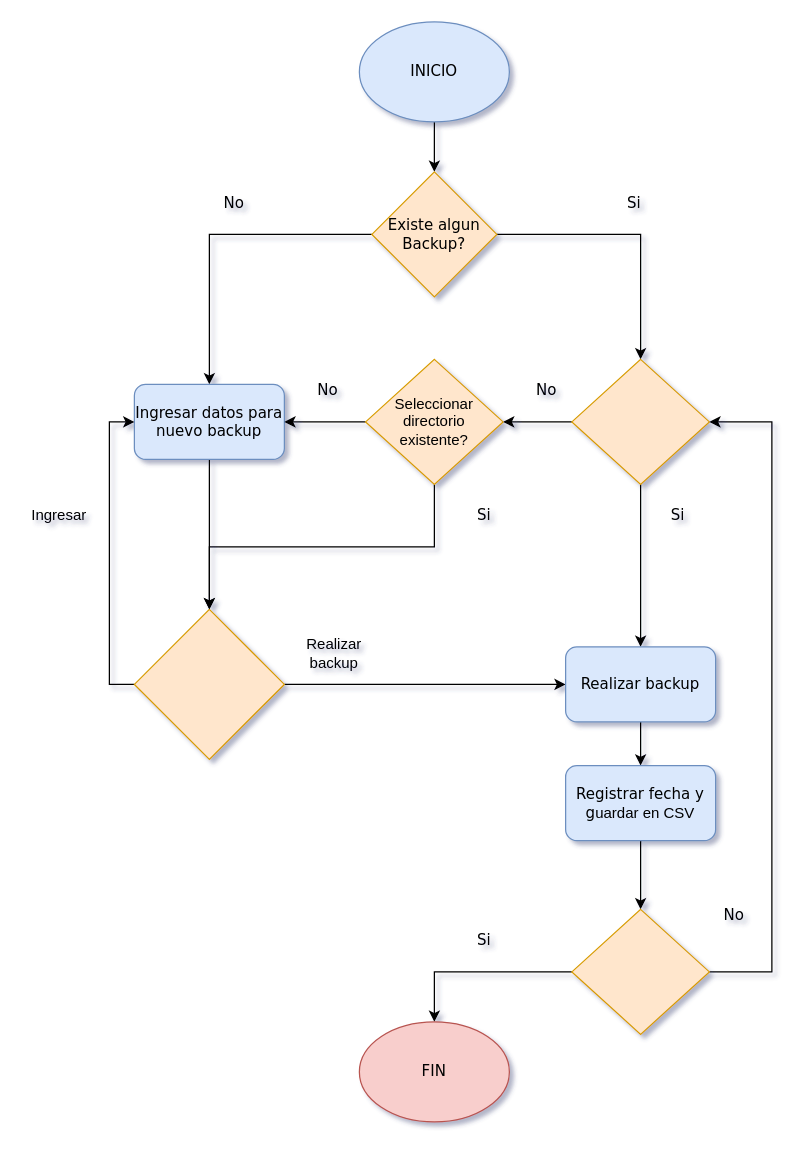
Some shapes in this 811 by 1151 pixel diagram are drawn without their labels. Here are the shapes that lost their labels. From the top down, the centre of each, then its label:
At pixel 640 421: "Comenzar los backup del ultimo directorio?".
At pixel 208 683: "Realizar copia de este directorio? o ingresar nuevo?".
At pixel 640 971: "Finaliza?".
